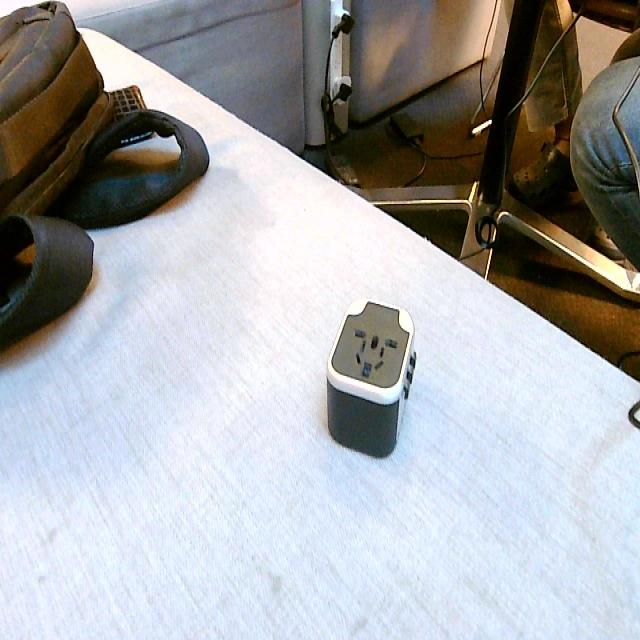adapter: (324, 296, 417, 457)
